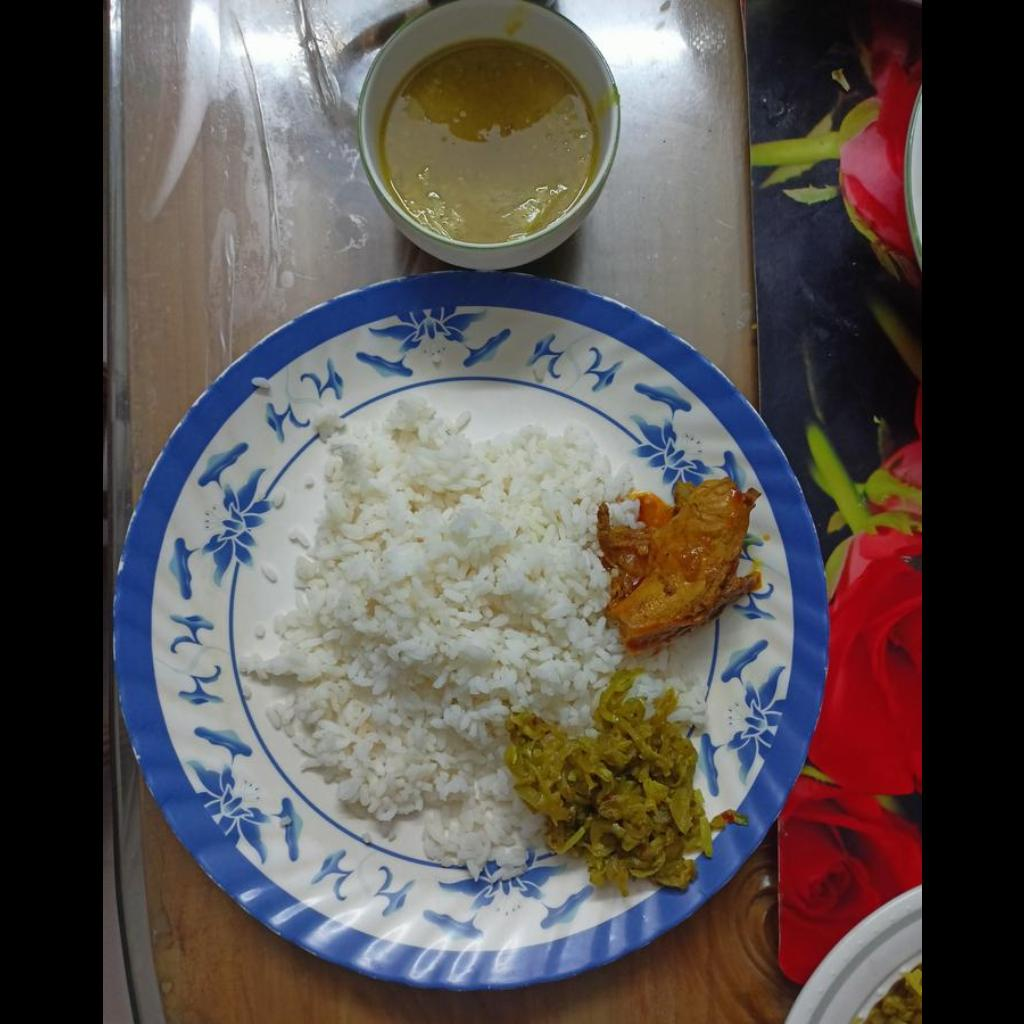chicken: (600, 476, 765, 641)
daal: (379, 38, 594, 238)
rice: (237, 393, 631, 878)
vaji: (505, 685, 714, 897)
